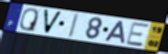8: (85, 17, 104, 40)
A: (103, 20, 126, 45)
E: (125, 22, 150, 48)
I: (67, 13, 80, 39)
Q: (18, 8, 40, 33)
V: (42, 9, 64, 36)
